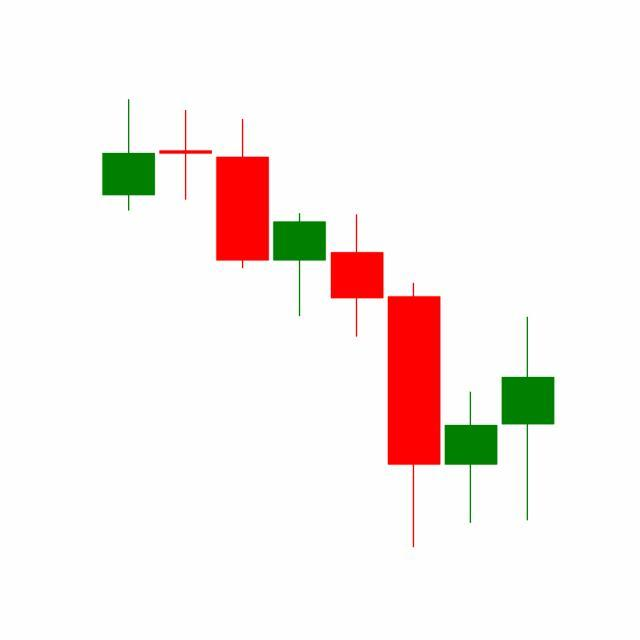Hikkake Pattern: (270, 209, 555, 549)
